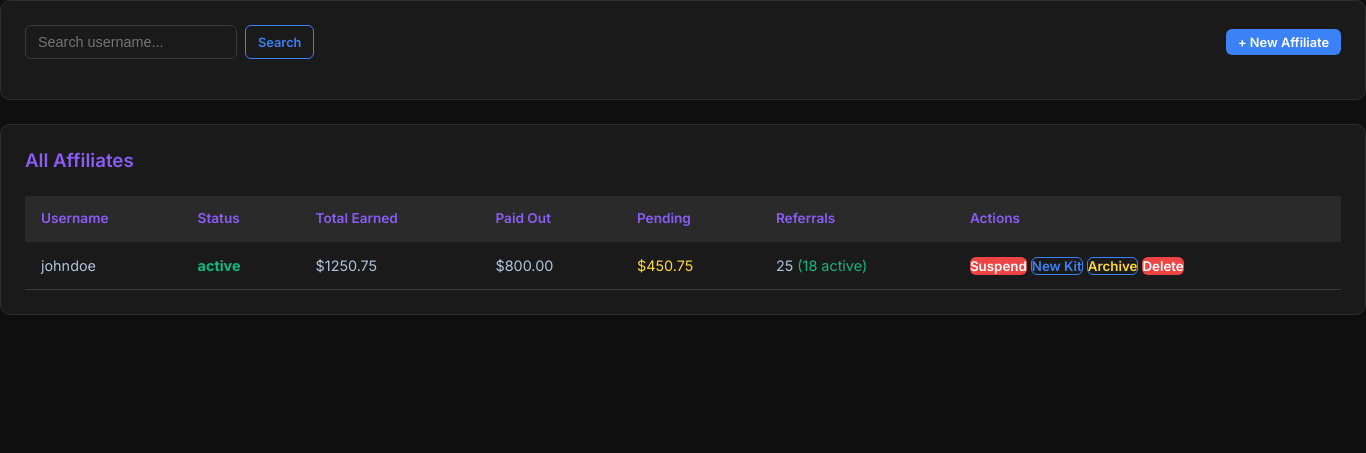
Test: Create Affiliate form › shows Create New Affiliate card when button is clicked
The width and height of the screenshot is (1366, 453).
Click the button "+ New Affiliate" at (1284, 42), box x1=1226 y1=29 x2=1341 y2=55
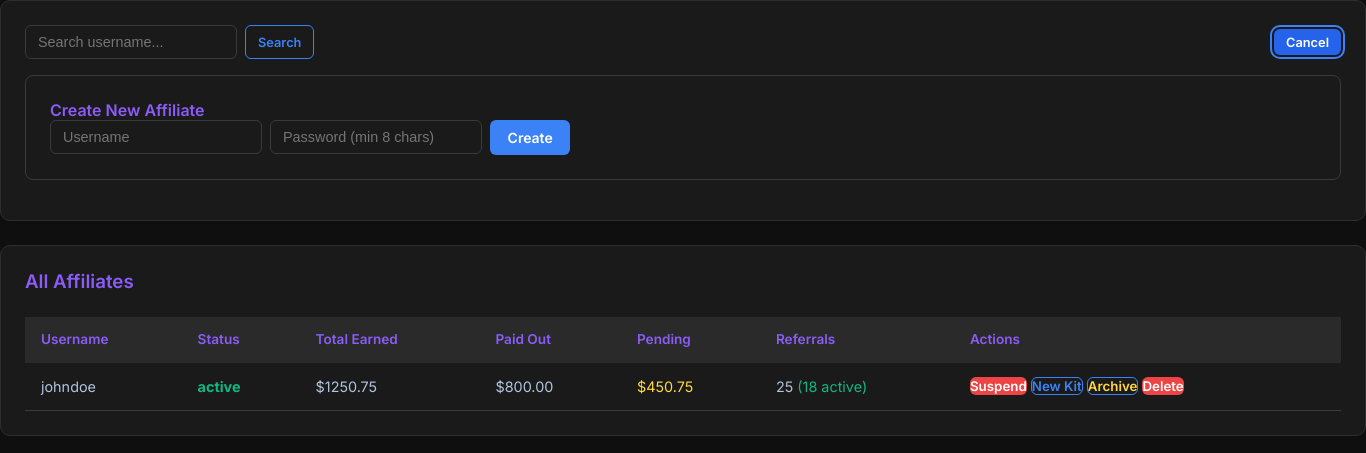
Now the heading "Create New Affiliate" is shown, box x1=50 y1=100 x2=204 y2=120
